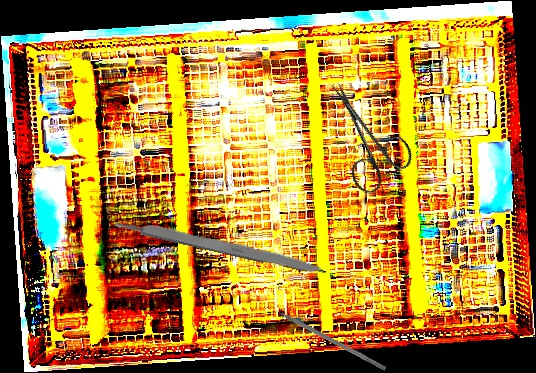Hook Surgical: (263, 301, 388, 371)
Iris Scissors: (305, 67, 420, 198)
Scalpel Handle: (114, 213, 328, 278)
